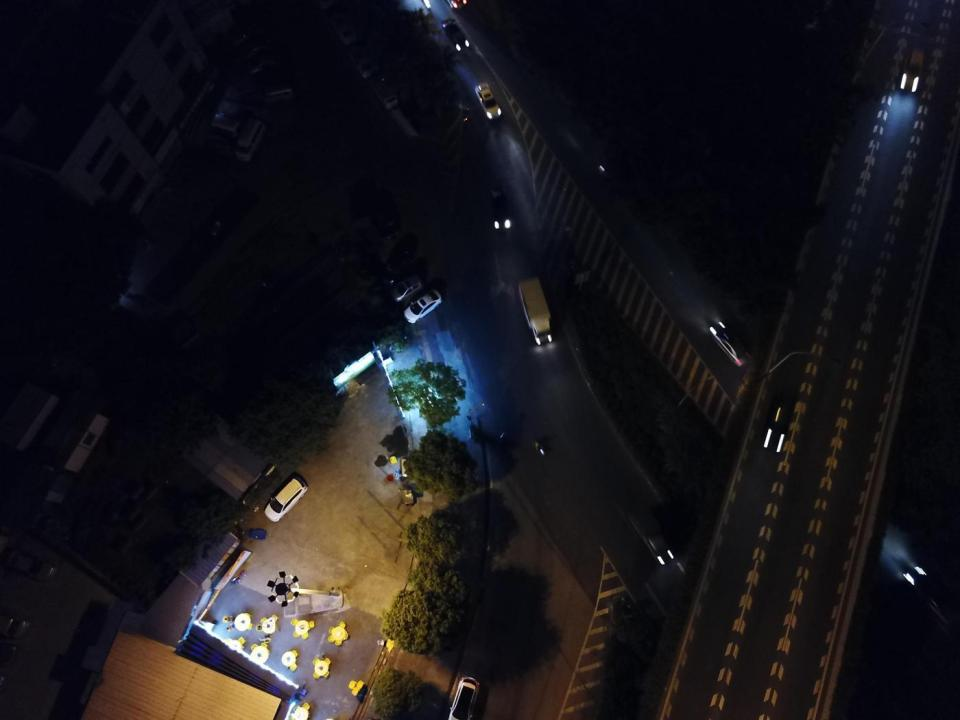car: (902, 565, 958, 630), (708, 320, 754, 368), (264, 476, 309, 522), (762, 398, 795, 452), (369, 187, 402, 237), (402, 288, 443, 324), (448, 675, 480, 720), (384, 239, 416, 283), (899, 48, 928, 93), (390, 272, 424, 303), (475, 82, 502, 120), (441, 18, 470, 51), (490, 186, 512, 229)
truck: (517, 276, 553, 346)
van: (627, 506, 676, 564), (233, 116, 270, 162)
